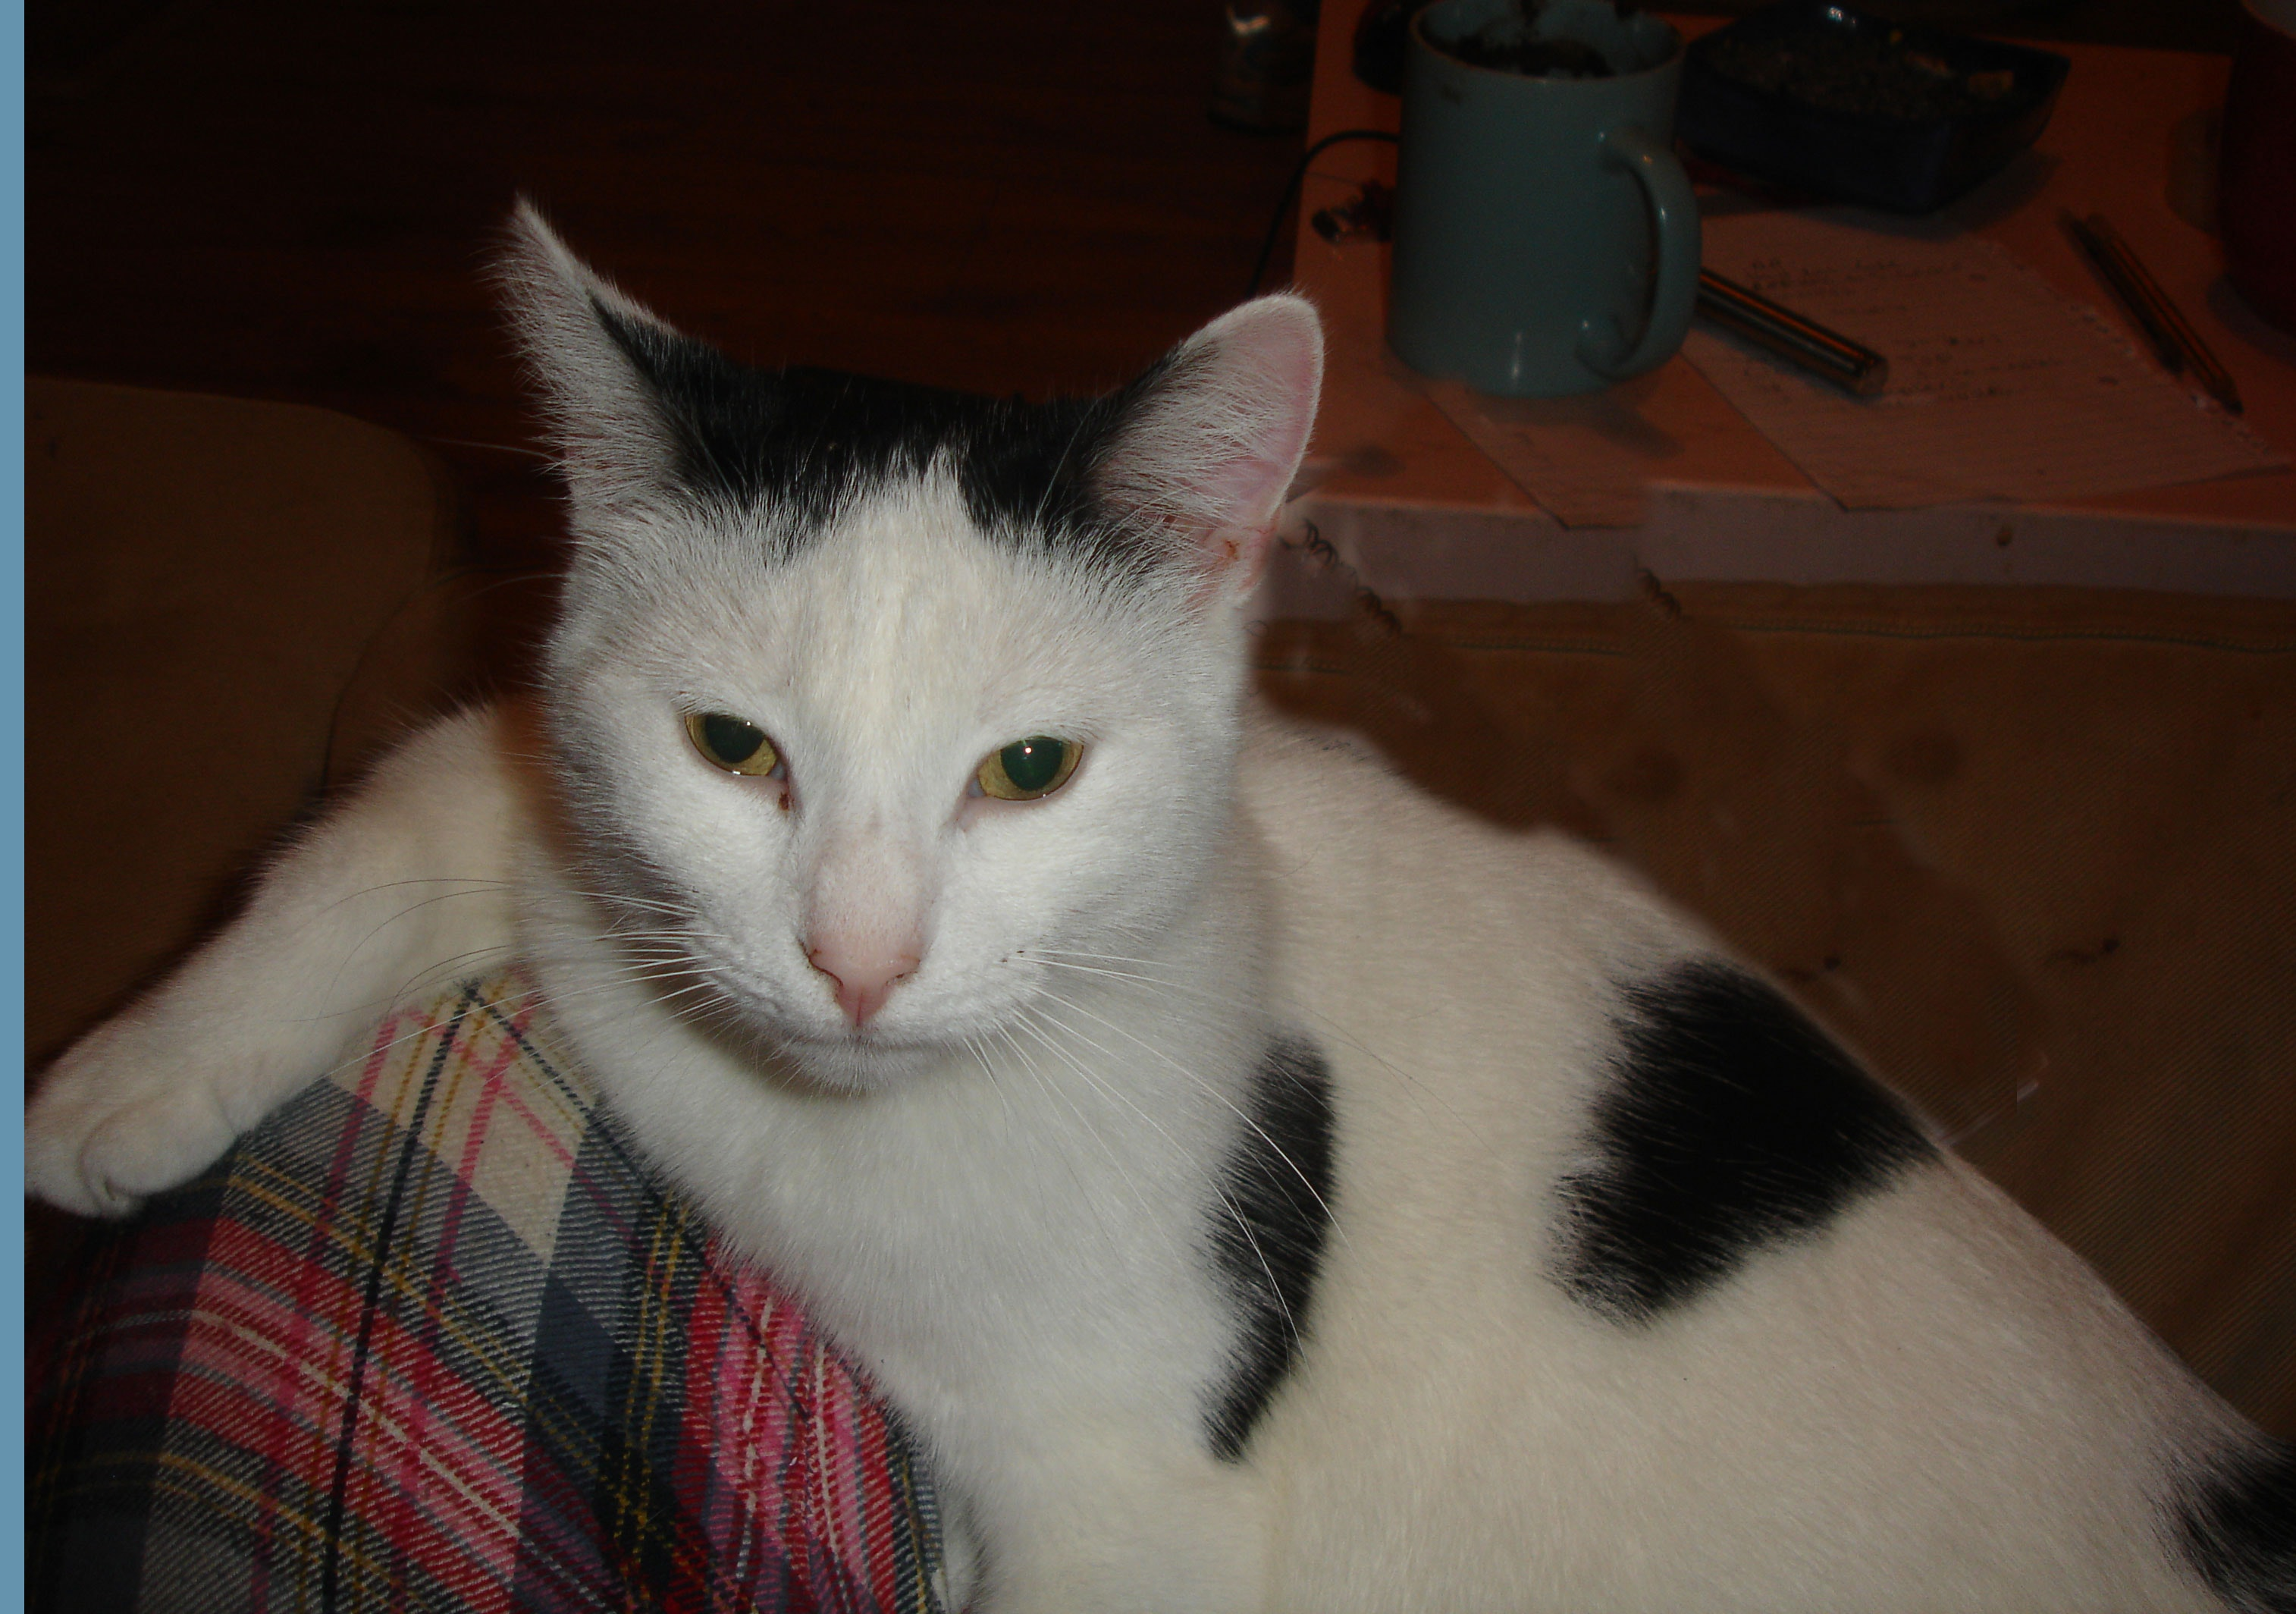cat-face: (423, 175, 1385, 1335)
